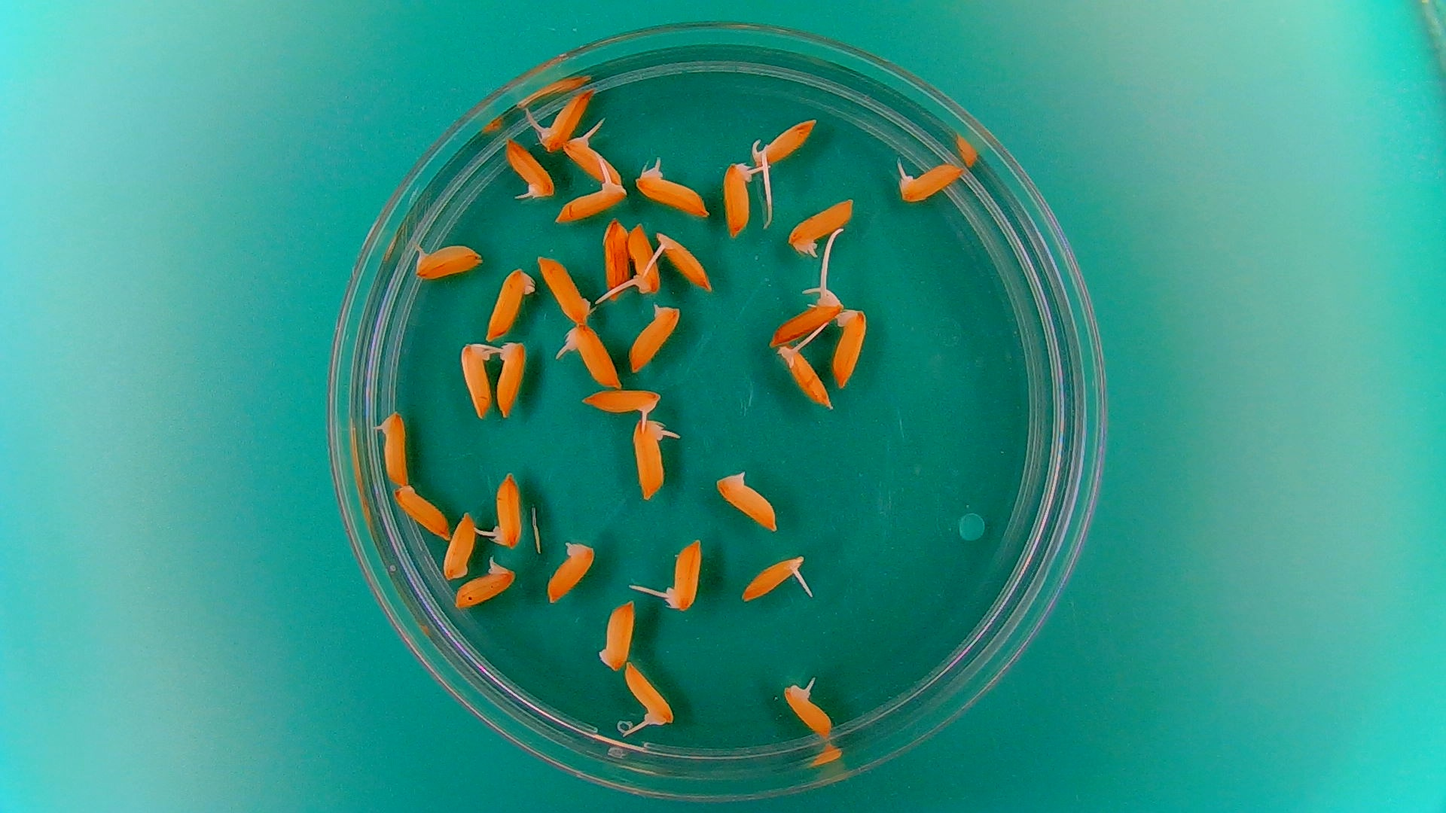no: (711, 465, 783, 534), (627, 297, 685, 376), (484, 262, 537, 341), (544, 535, 598, 608), (537, 257, 592, 324), (389, 483, 451, 540), (594, 596, 636, 672), (441, 507, 481, 581), (602, 216, 633, 297)
yes: (765, 286, 840, 346), (558, 322, 621, 390), (777, 343, 834, 410), (541, 88, 597, 153), (654, 233, 714, 292), (737, 549, 805, 601), (630, 419, 671, 504), (623, 659, 674, 727), (829, 303, 869, 389), (503, 136, 555, 202), (554, 175, 621, 225), (789, 200, 854, 251), (452, 560, 514, 611), (751, 118, 813, 169), (563, 136, 627, 185), (640, 169, 706, 216), (459, 340, 497, 420), (410, 241, 486, 281), (581, 385, 665, 420), (493, 338, 529, 419), (780, 685, 834, 738), (626, 221, 663, 296), (721, 161, 758, 235), (900, 161, 964, 203), (666, 541, 703, 613), (490, 475, 525, 550), (377, 411, 411, 486)
